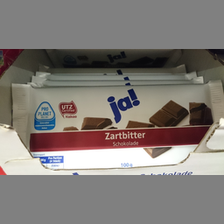chocolate: (10, 83, 223, 166)
